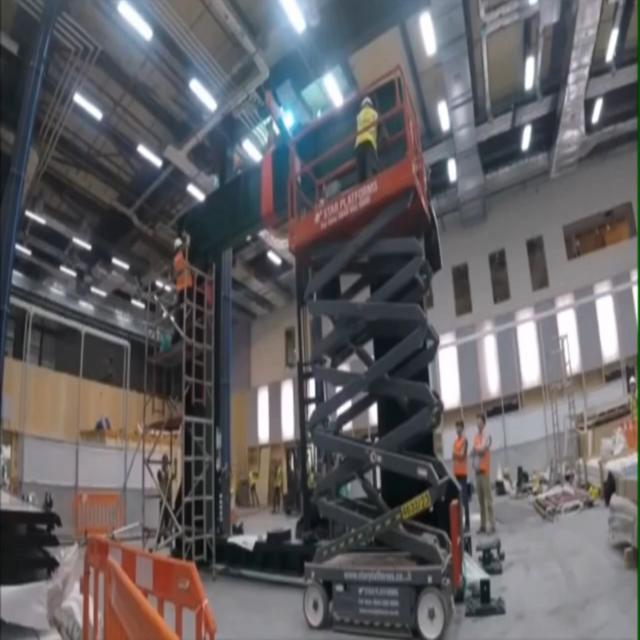2m above platform: (287, 61, 452, 640), (150, 281, 217, 560)
worker: (469, 408, 494, 524), (356, 97, 378, 177), (170, 232, 193, 306)
